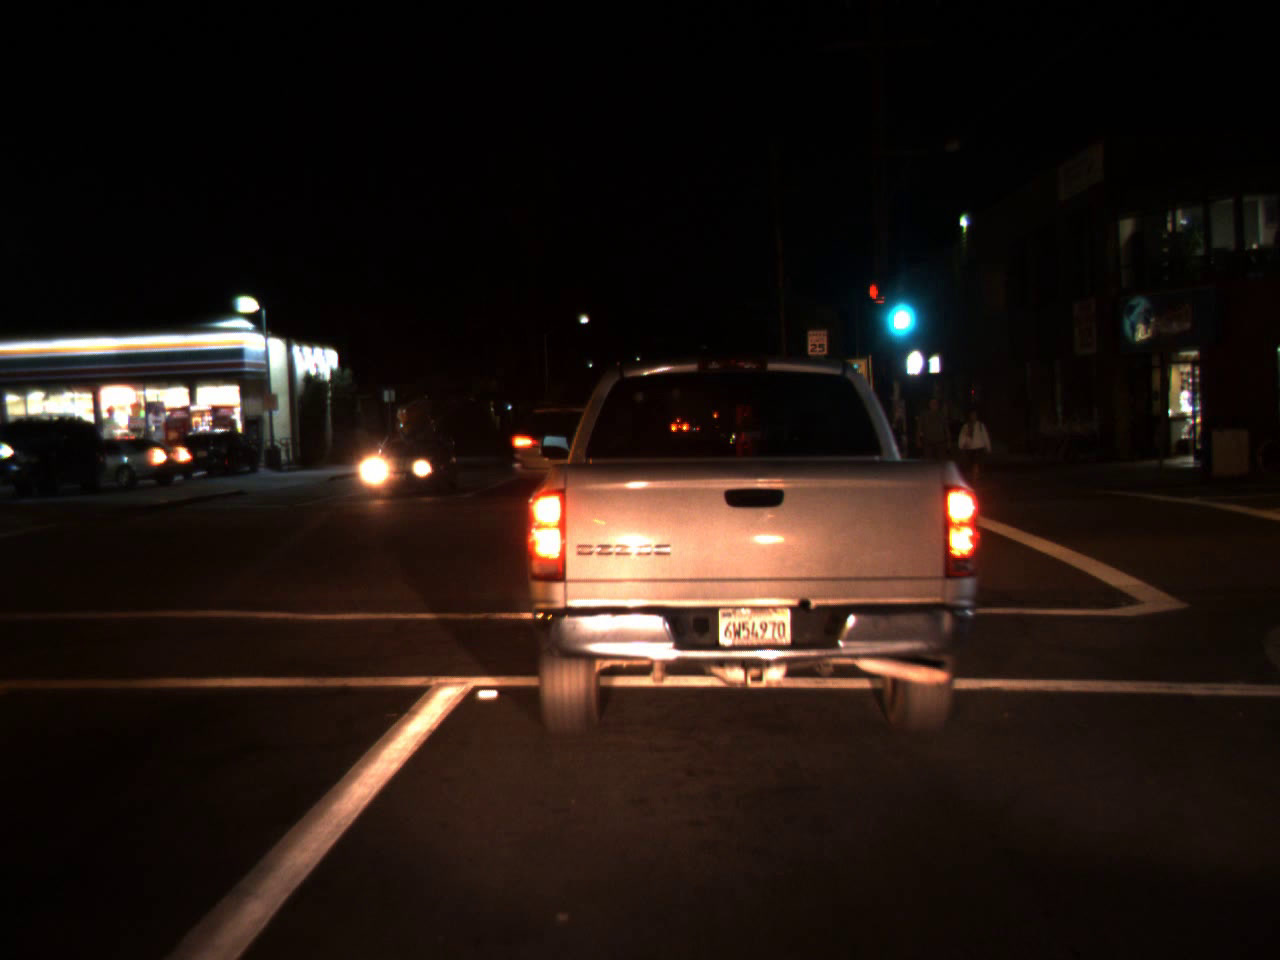go: (875, 268, 920, 346)
